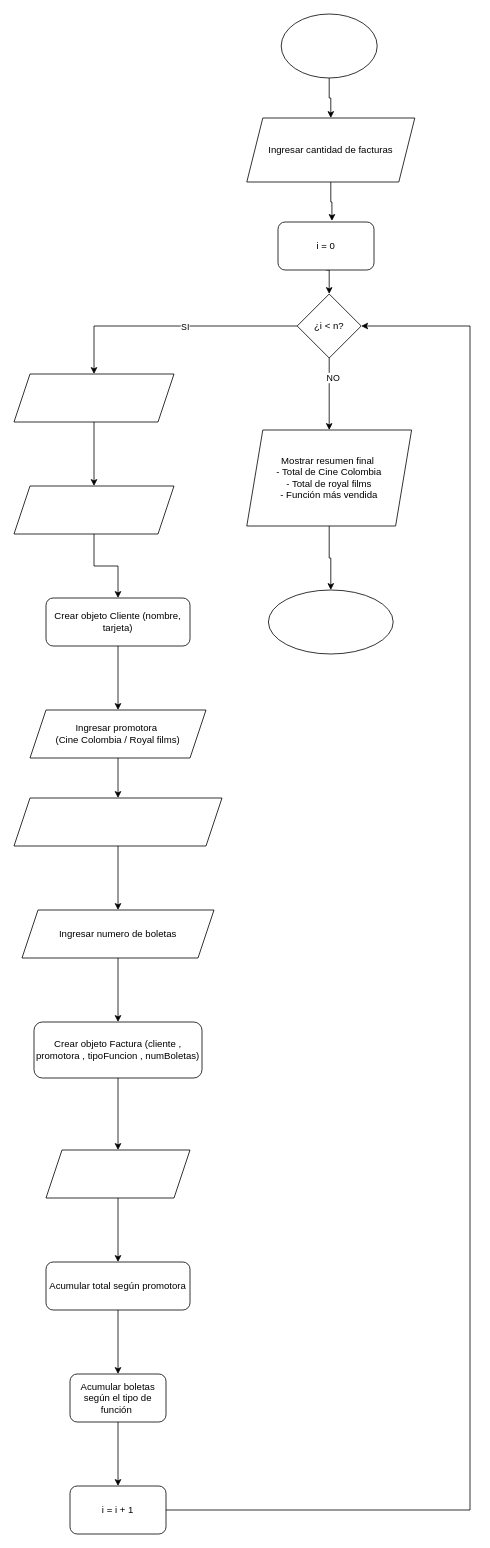
The diagram is 490 pixels wide and 1548 high, and some of its shapes have lost their labels. Here are the shapes that lost their labels. From the top down, the centre of each, then its label:
point 328,45: inicio
point 93,397: Ingresar nombre cliente
point 93,509: ¿Tarjeta de descuento?
point 330,621: Fin
point 117,821: Ingresar tipo de función (35mm / 3D)
point 117,1173: Mostrar factura generada
